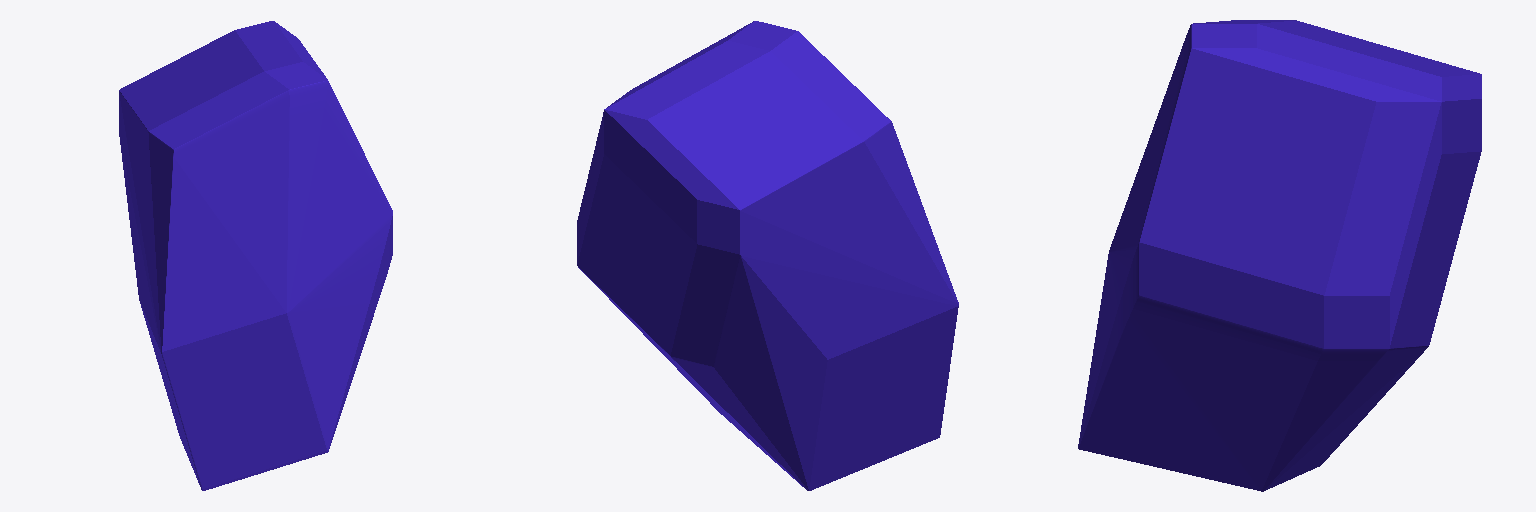
URDF robot description (zonopy_mesh_step2_link7.obj):
<robot name="zonopy_mesh_step2_link7.obj">
	<link name="link0">
		<visual>
			<origin xyz="0 0 0" rpy="0 0 0" />
			<geometry>
				<mesh filename="zonopy_mesh_step2_link7.obj" scale="1.0 1.0 1.0" />
			</geometry>
			<material name="texture">
				<color rgba="0.3 0.2 0.8 0.5" />
			</material>
		</visual>
		<inertial>
			<mass value="0" />
			<inertia ixx="0.0" ixy="0.0" ixz="0.0" iyy="0.0" iyz="0.0" izz="0.0" />
		</inertial>
	<collision><geometry><mesh filename="zonopy_mesh_step2_link7.obj" /></geometry></collision></link>
</robot>

--- Facts derived from the render (not from the file) ---
3 views of the same robot in one strip: view 1: azimuth 30°, elevation 25°; view 2: azimuth 150°, elevation 25°; view 3: azimuth 270°, elevation 25° (orthographic).
Robot: zonopy_mesh_step2_link7.obj — 1 links, 0 joints (none); root link link0; default pose: all joints at 0.
Links seen in each view (by area): view 1: link0; view 2: link0; view 3: link0.
Boxes of the visible links, x1,y1,x2,y2 form: link0: (119, 21, 392, 490); link0: (577, 21, 958, 490); link0: (1078, 20, 1481, 491).
Size in the robot's own frame: 0.1494 by 0.1532 by 0.2009 metres.
Meshes: 1 distinct files referenced, 1 mesh visuals loaded (1 OBJ).